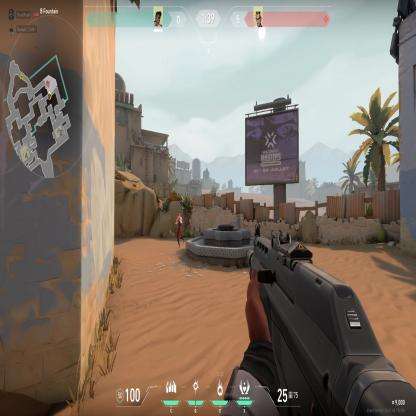enemy: (175, 210, 184, 248)
